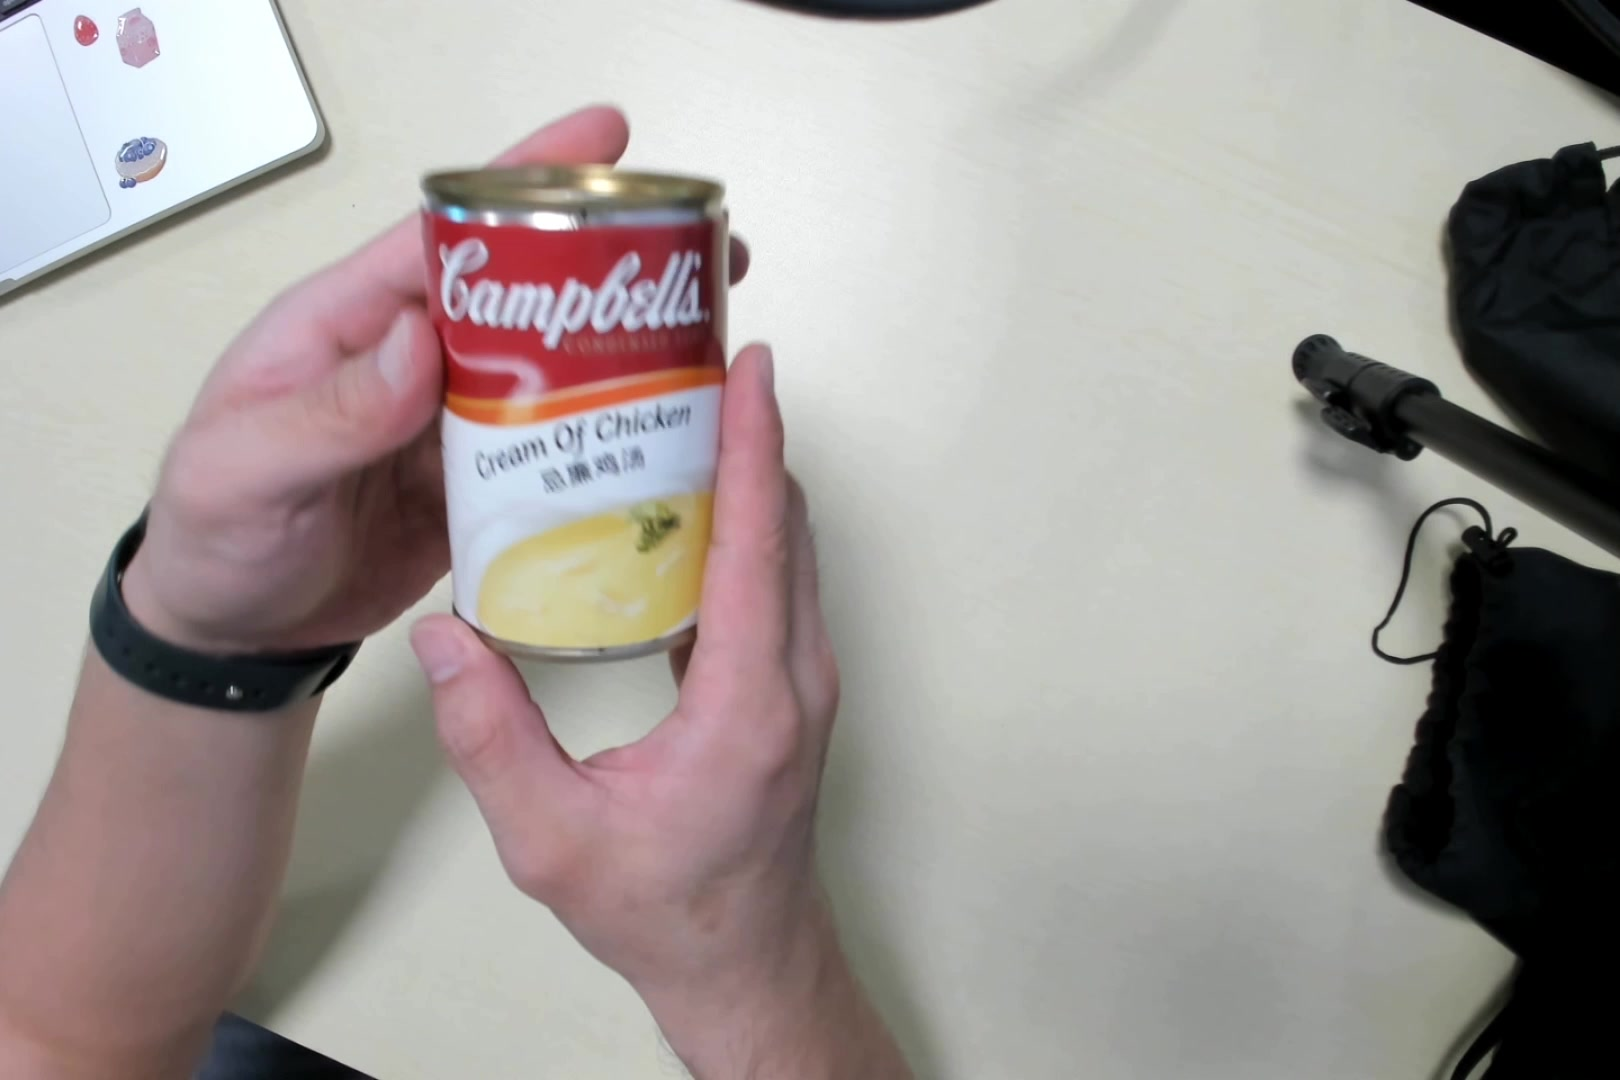CannedSoup_300-399g_Halal_NonHealthy: (418, 168, 717, 653)
